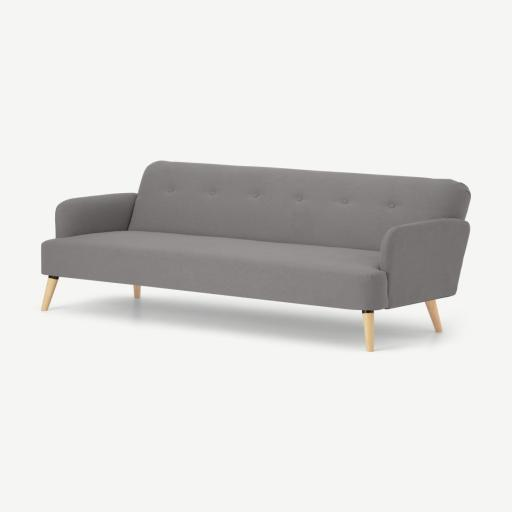back_cushion: (130, 161, 469, 250)
left_arm: (380, 218, 469, 331)
legs: (41, 276, 58, 311), (426, 301, 442, 332), (362, 310, 374, 351), (134, 286, 140, 298)
right_arm: (56, 193, 137, 238)
seat_cushion: (42, 231, 387, 310)
two-seater: (0, 0, 511, 512)
